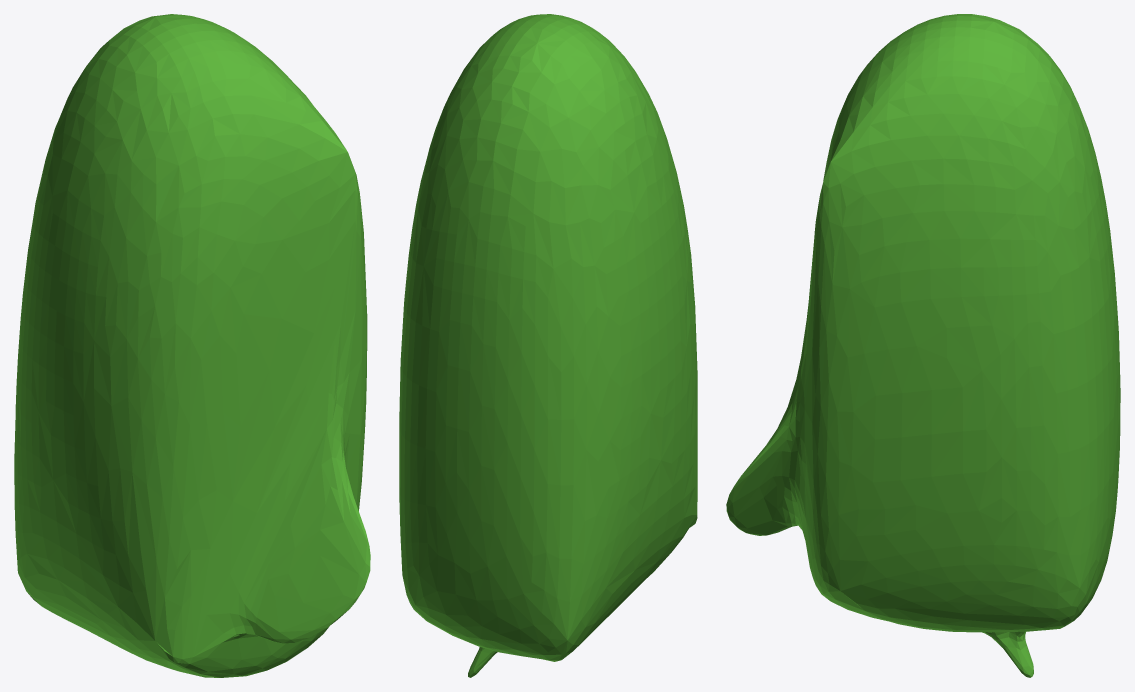
3 views of the same model, side by side, from view 1: azimuth 30°, elevation 25°; view 2: azimuth 150°, elevation 25°; view 3: azimuth 270°, elevation 25° (orthographic). The views are drawn at different scales.
Parts seen in each view (by area): view 1: 655_Cube.2632; view 2: 655_Cube.2632; view 3: 655_Cube.2632.
Boxes of the visible parts, left/top/right/bottom form: 655_Cube.2632: left=14, top=14, right=370, bottom=677; 655_Cube.2632: left=399, top=14, right=697, bottom=677; 655_Cube.2632: left=726, top=14, right=1120, bottom=677.
Size of the model in its own units: 4.73 by 12 by 6.74.
